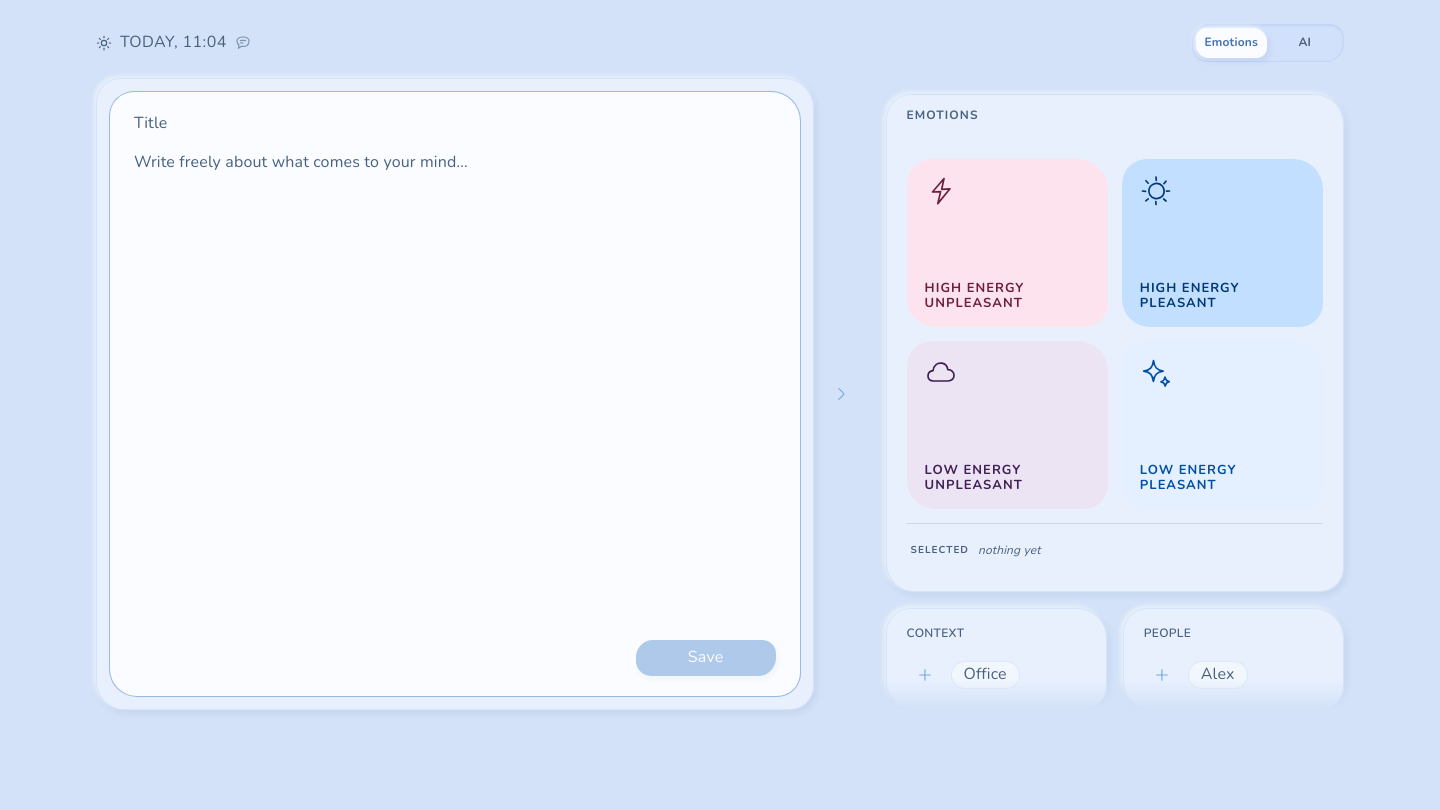
it: JournalEditorView › Chat Button › renders the separate-chat entry in the AI section only
The image size is (1440, 810).
Click the button "AI" at (1305, 43), box [1270,28,1340,58]
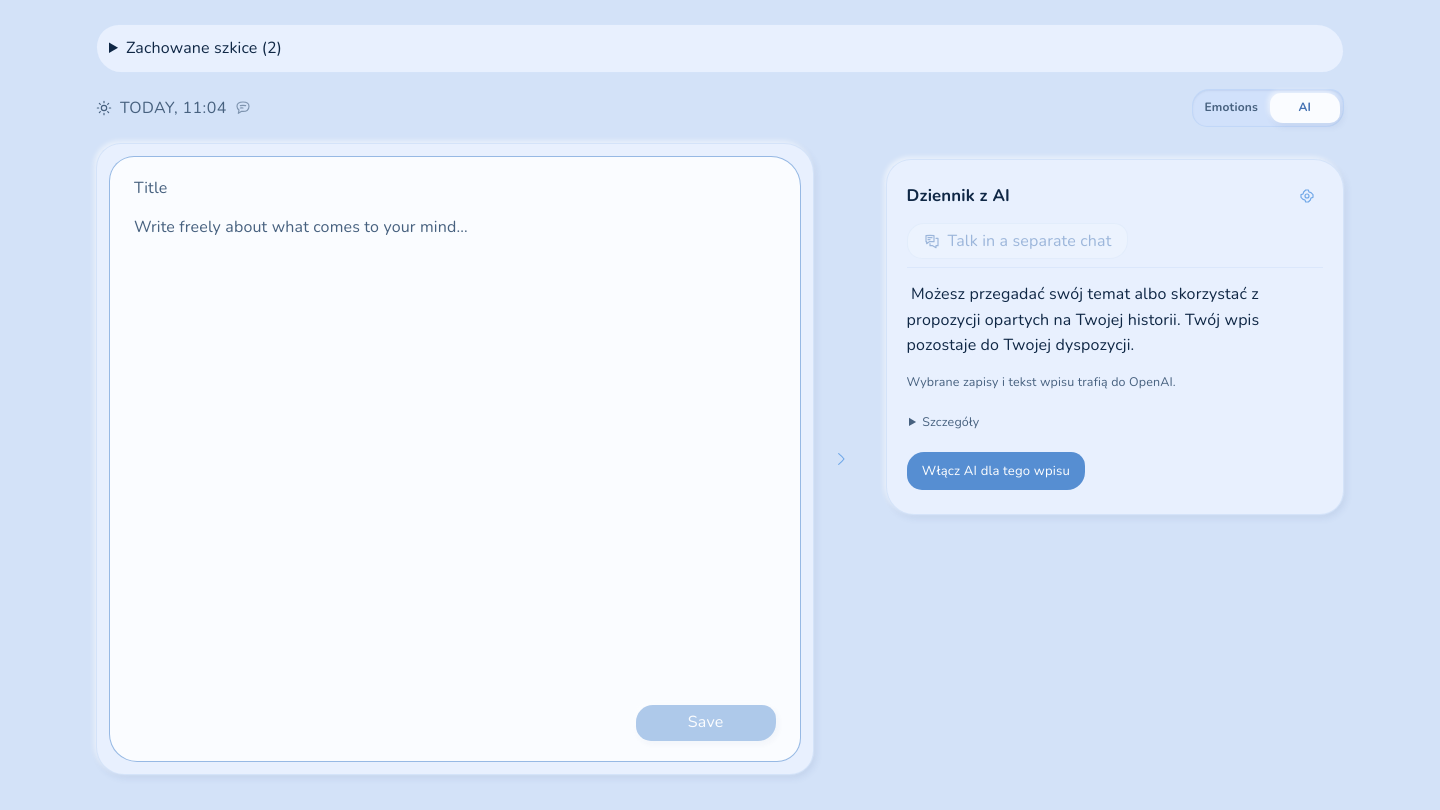
Expected: the button with aria-label "start chat about this entry" reads "Talk in a separate chat", [907,223,1128,259]
